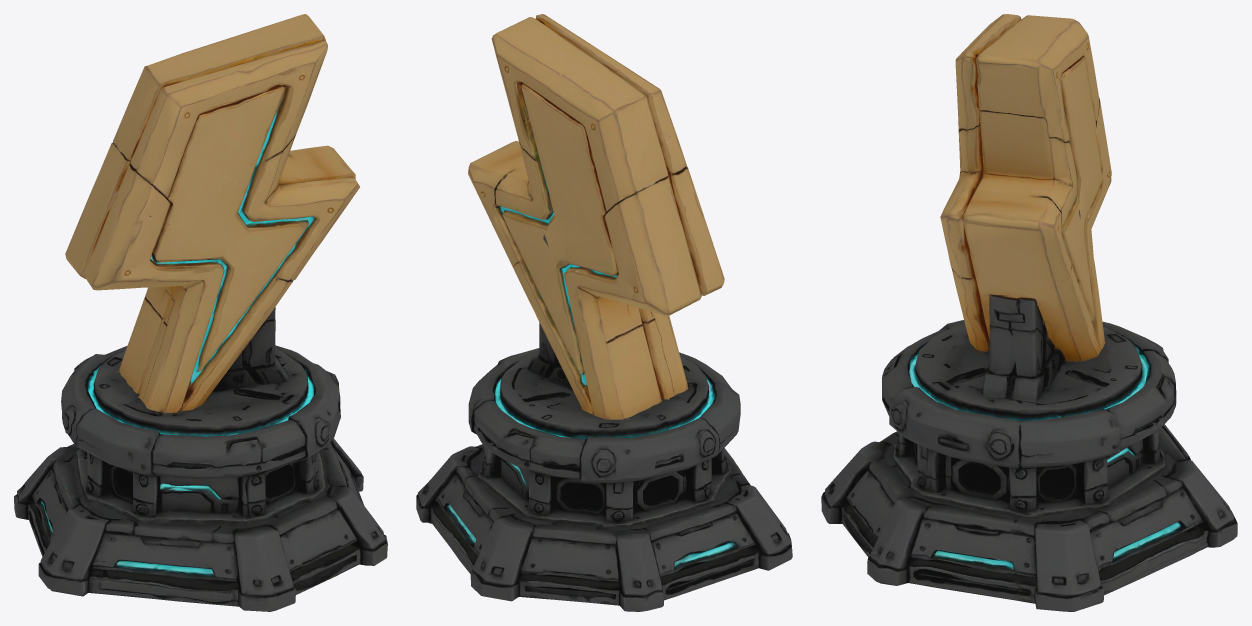
Rendered from prop-bolt.glb.
3 views of the same model, side by side, from view 1: azimuth 30°, elevation 25°; view 2: azimuth 150°, elevation 25°; view 3: azimuth 270°, elevation 25° (orthographic). The views are drawn at different scales.
Visible parts, largest first — view 1: body; view 2: body; view 3: body.
Part boxes in pixels (x1,y1,x2,y2): body: [14, 14, 387, 611]; body: [416, 14, 792, 611]; body: [821, 14, 1237, 611].
Size of the model in its own units: 0.7341 by 0.9999 by 0.725.
1 material, 1 textured.
